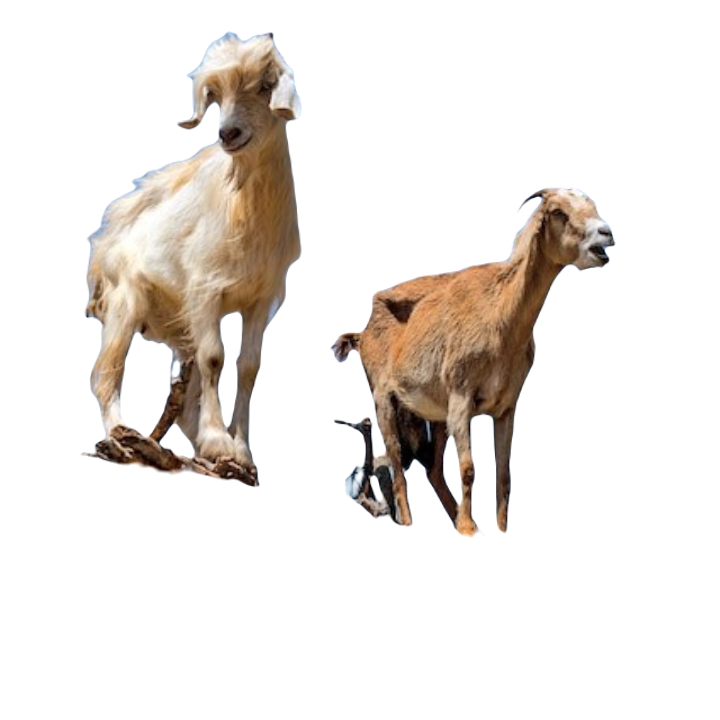Goat: (82, 32, 305, 484), (331, 187, 616, 536)
